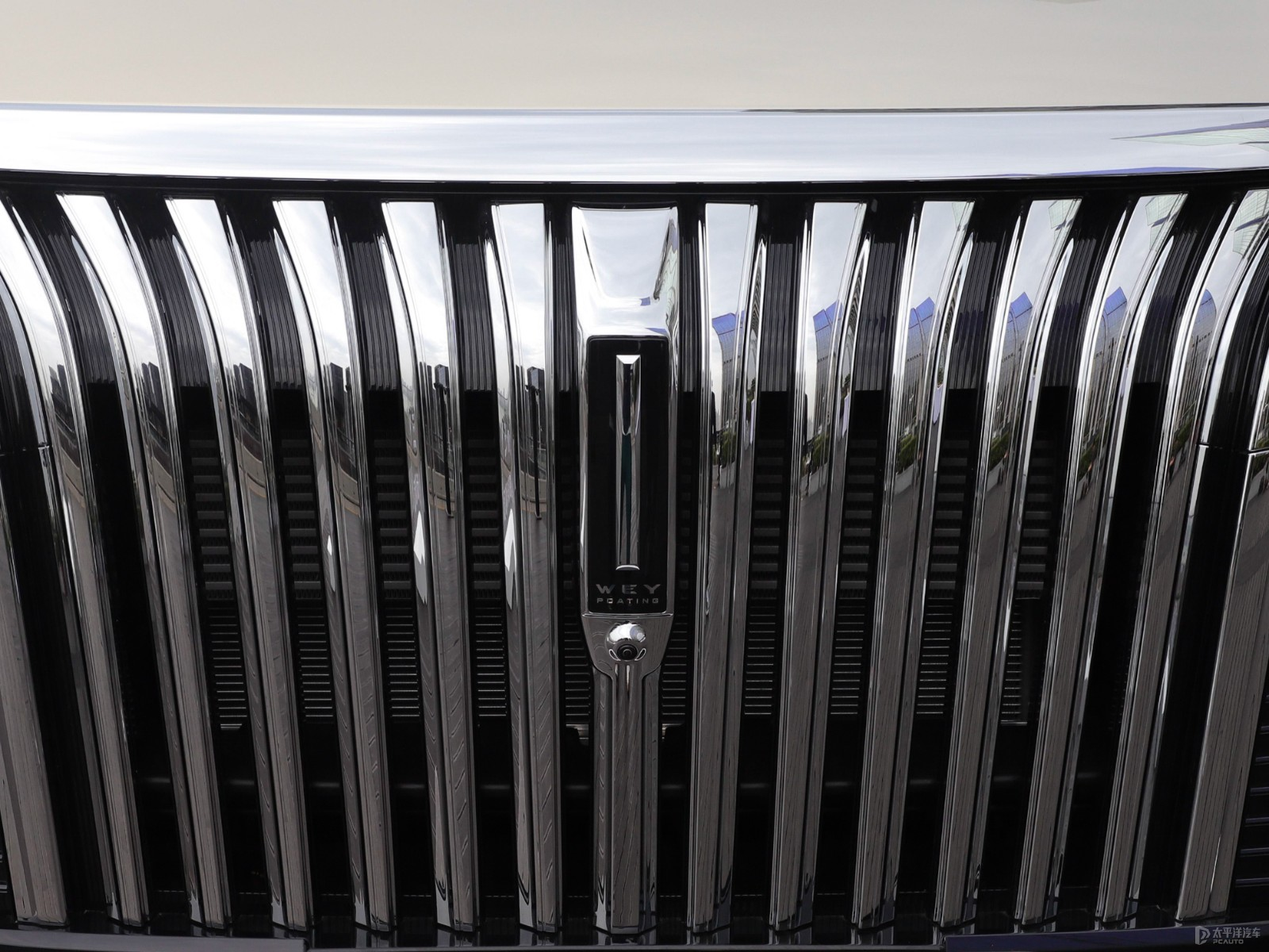WEY: (588, 337, 669, 614)
